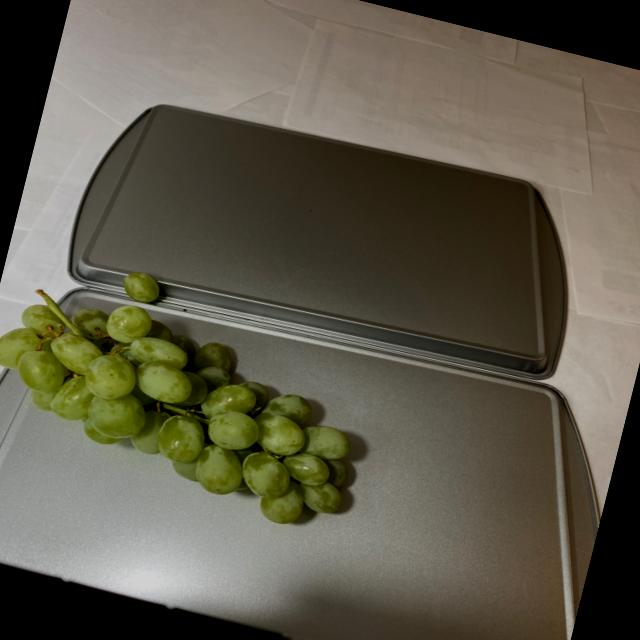grapes: (0, 242, 396, 533)
